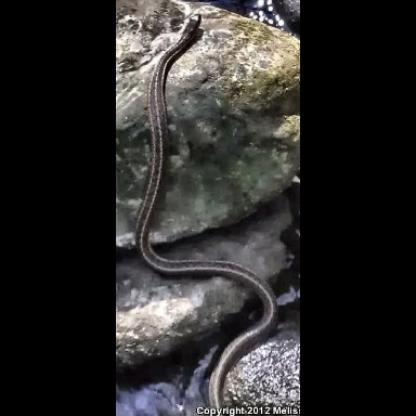Snake: (138, 13, 230, 277)
